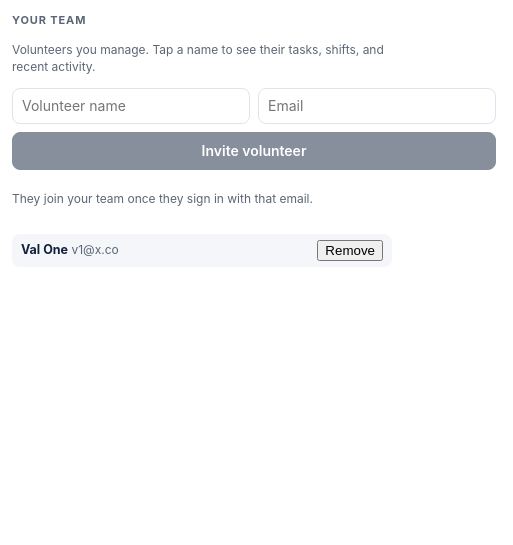
Test case: TeamPanel › nudges a volunteer from their detail pane
This screenshot has width=513, height=545.
Click the text "Val One" at (45, 250), box [21,242,68,257]
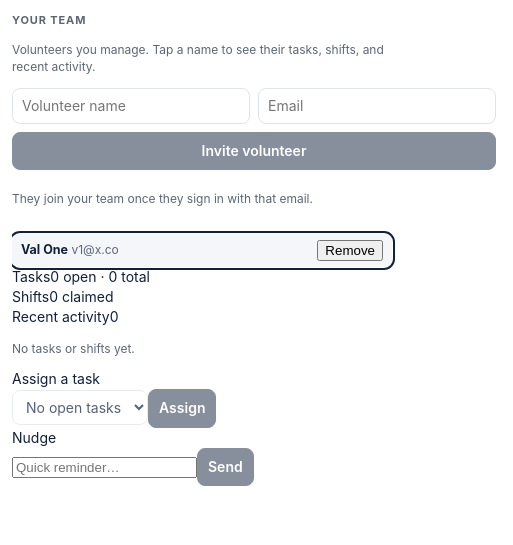
Type "Claim your shift" into the field with placeholder "Quick reminder…" at (104, 467), box [12,457,197,478]
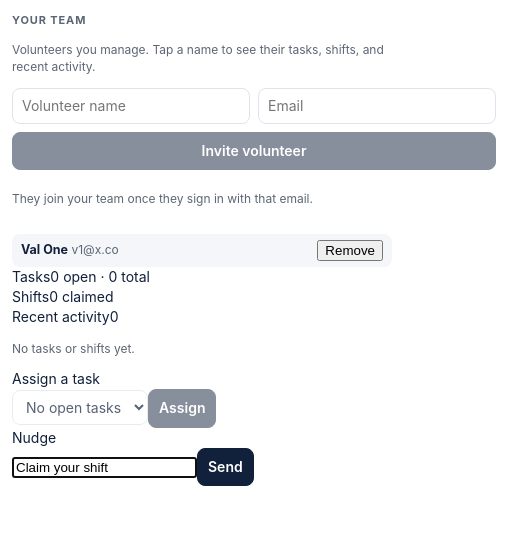
Click the button "Send" at (225, 467), box [197,448,254,486]
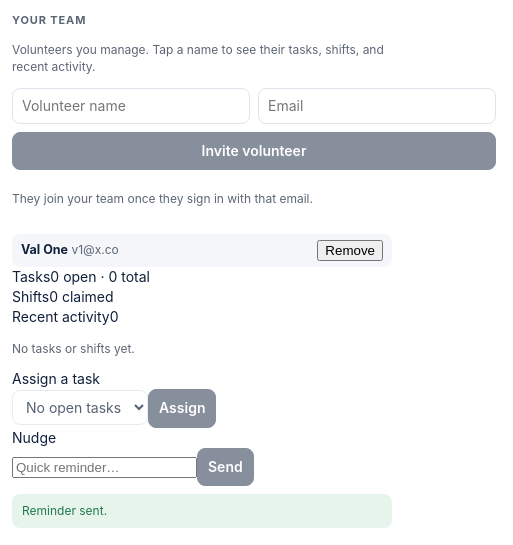
Now the text "Reminder sent." is shown, box [12,494,392,528]
